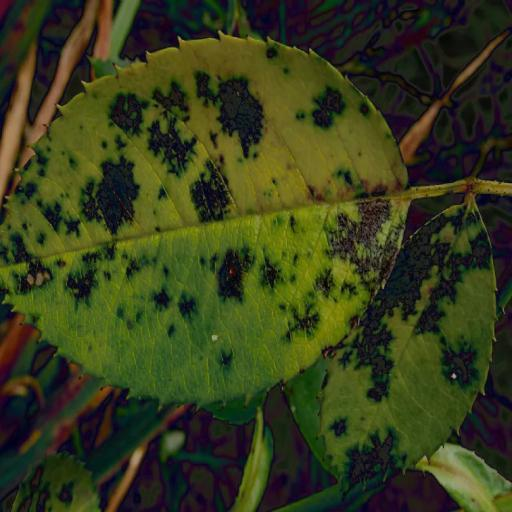downy_mildew: (0, 36, 408, 405), (321, 198, 496, 492), (416, 444, 511, 511), (12, 454, 100, 511), (230, 408, 273, 511)
